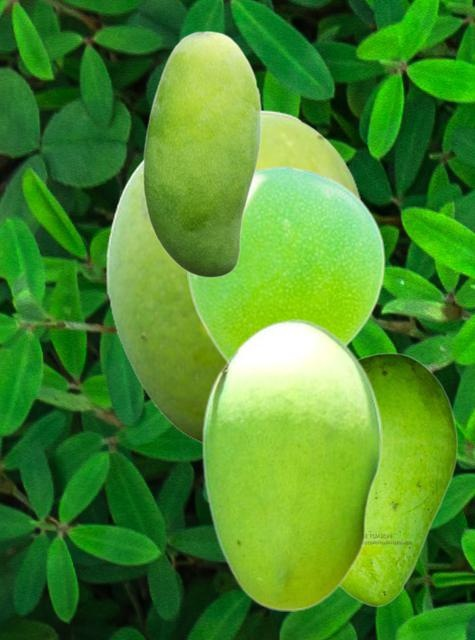green_mango: (105, 109, 364, 444), (201, 318, 381, 610), (187, 165, 384, 363), (340, 352, 457, 606), (142, 30, 261, 277)
